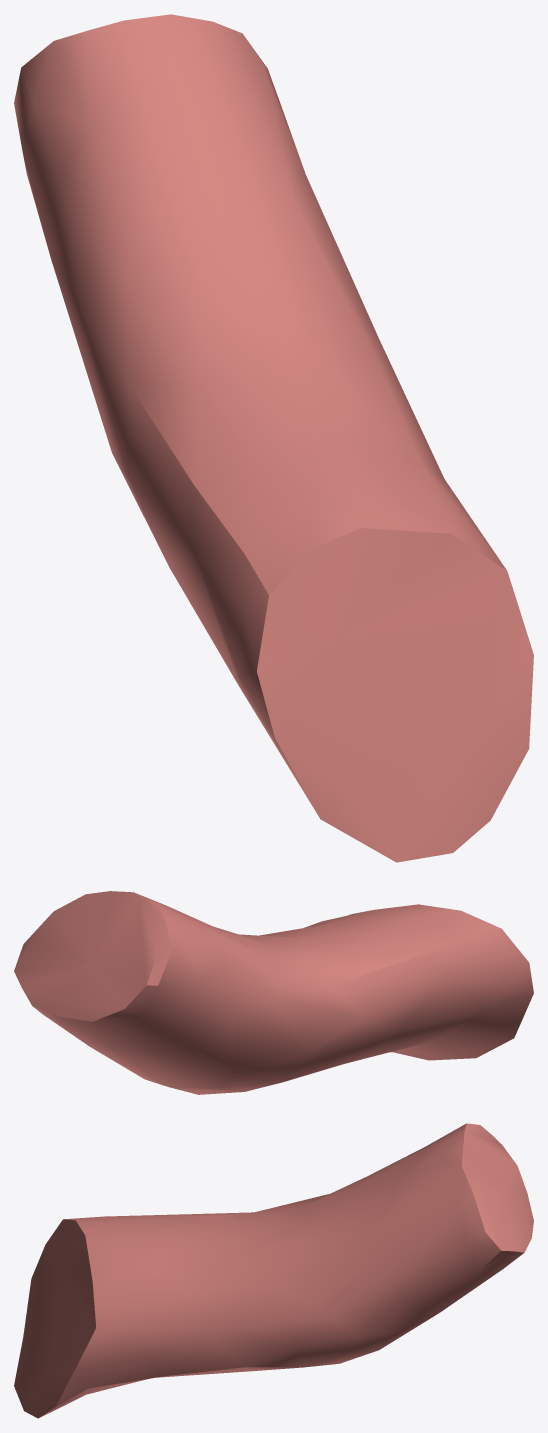
File: fma42582_mm1929.glb
3 renders of one model, top to bottom at view 1: azimuth 30°, elevation 25°; view 2: azimuth 150°, elevation 25°; view 3: azimuth 270°, elevation 25°, orthographic. The views are drawn at different scales.
Parts seen in each view (by area): view 1: FMA42582_MM1929; view 2: FMA42582_MM1929; view 3: FMA42582_MM1929.
Boxes of the visible parts, x1,y1,x2,y2 form: FMA42582_MM1929: [14, 14, 533, 862]; FMA42582_MM1929: [14, 891, 533, 1094]; FMA42582_MM1929: [14, 1123, 533, 1418].
Bounding box in the file's own units: 0.00507 × 0.00637 × 0.0101.
